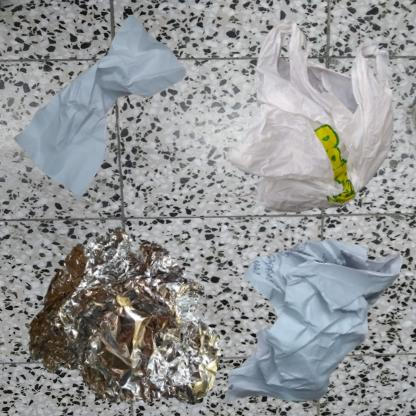aluminio: (10, 213, 236, 416)
bolsa: (213, 10, 416, 262)
papel: (213, 213, 416, 416), (10, 10, 188, 209)
